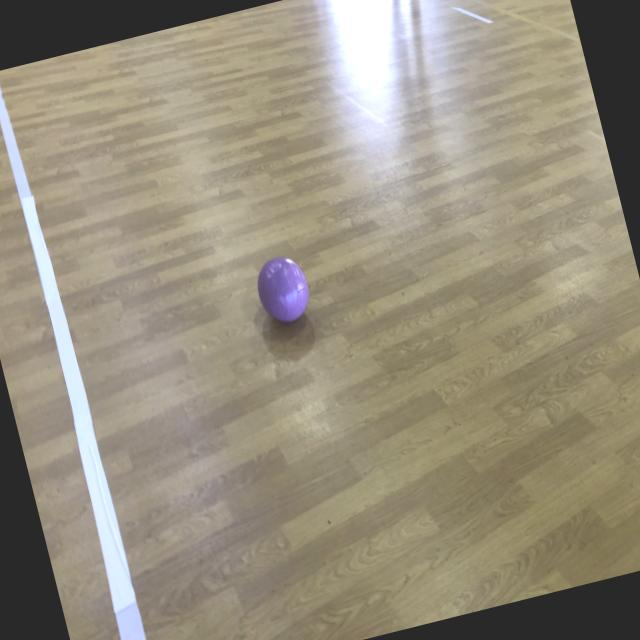purple_ball: (252, 251, 315, 326)
